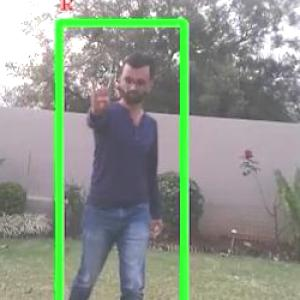takeoff-hand: (82, 72, 115, 116)
